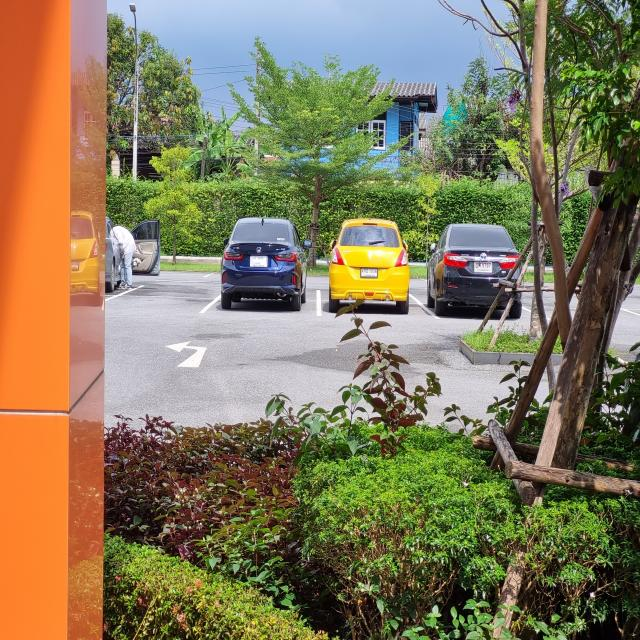license_plate: (250, 255, 268, 268), (474, 261, 493, 273), (360, 267, 379, 278)
